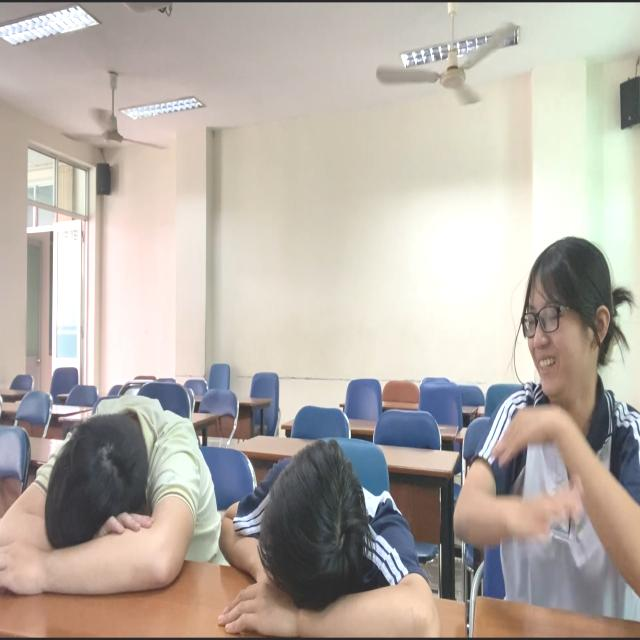sleep: (1, 399, 247, 640), (212, 439, 445, 640)
